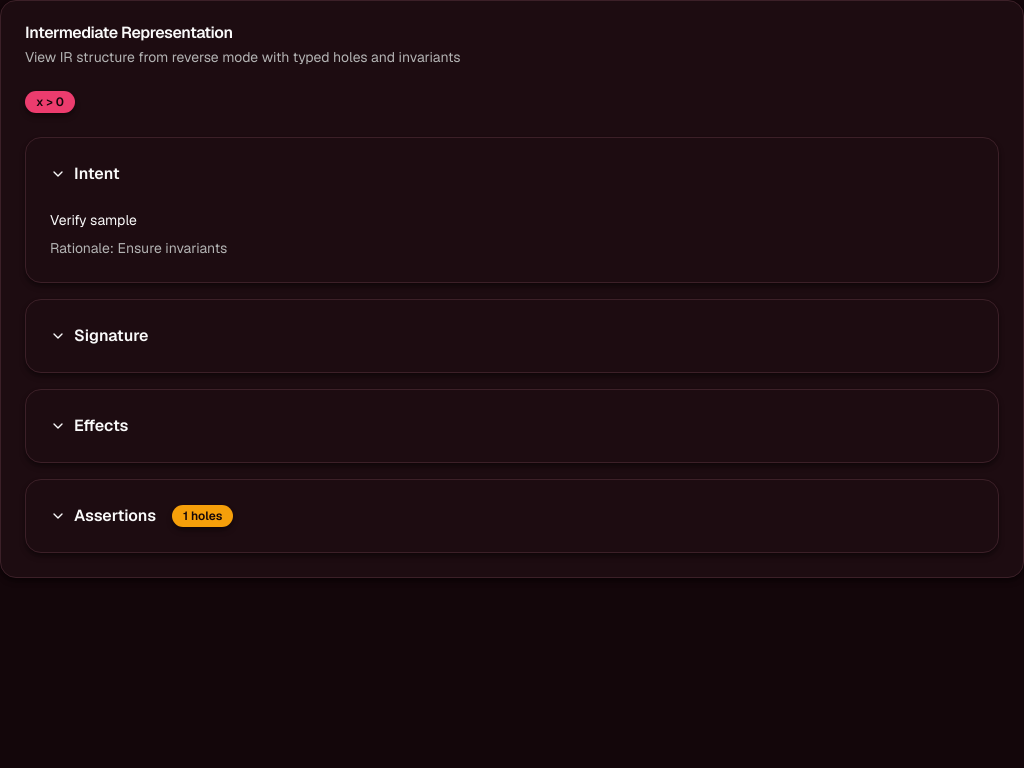
Scenario: IrView › supports progressive disclosure for IR sections
This screenshot has width=1024, height=768.
Expected: the text "Verify sample" is shown, left=50, top=211, right=137, bottom=229
Expected: the text "No side effects recorded." is not shown
Click the heading "Effects".
click(89, 426)  # box left=50, top=415, right=128, bottom=436
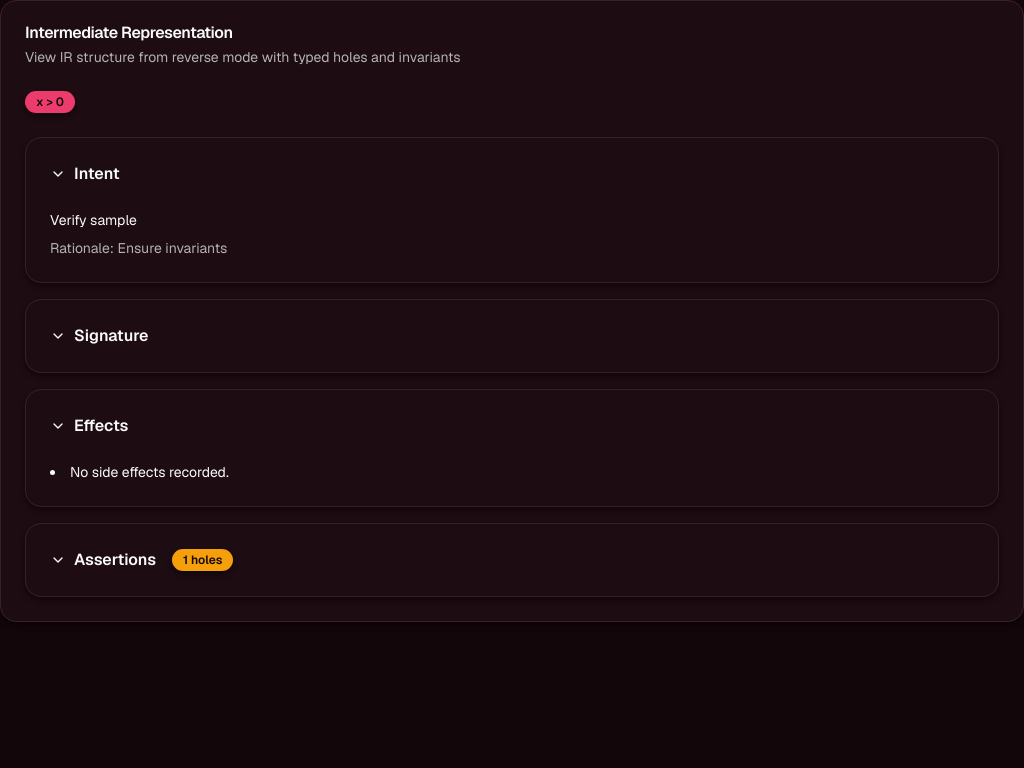
Expected: the list item "No side effects recorded." is shown, left=70, top=463, right=229, bottom=481
